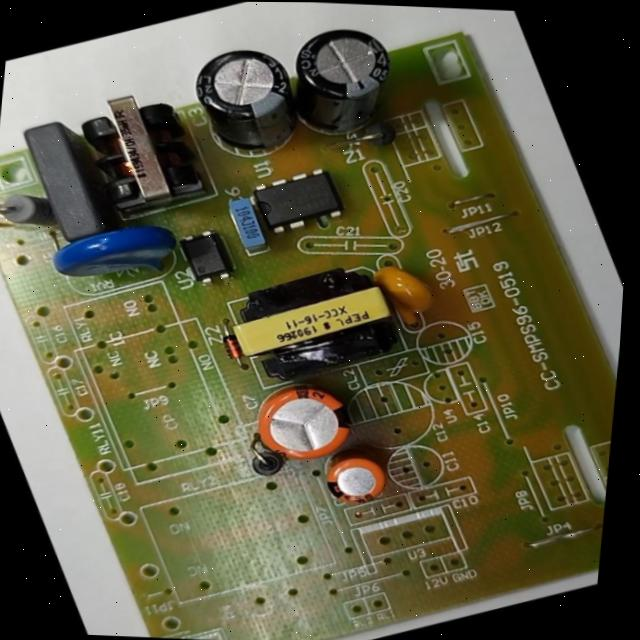Cap1: (224, 363, 384, 480)
Cap2: (289, 433, 415, 523)
Cap3: (156, 32, 332, 178)
Cap4: (258, 10, 439, 157)
MOSFET: (232, 156, 364, 248)
Mov: (30, 203, 204, 310)
Resistor: (0, 179, 72, 249)
Transformer: (204, 243, 425, 396), (57, 69, 233, 226)
